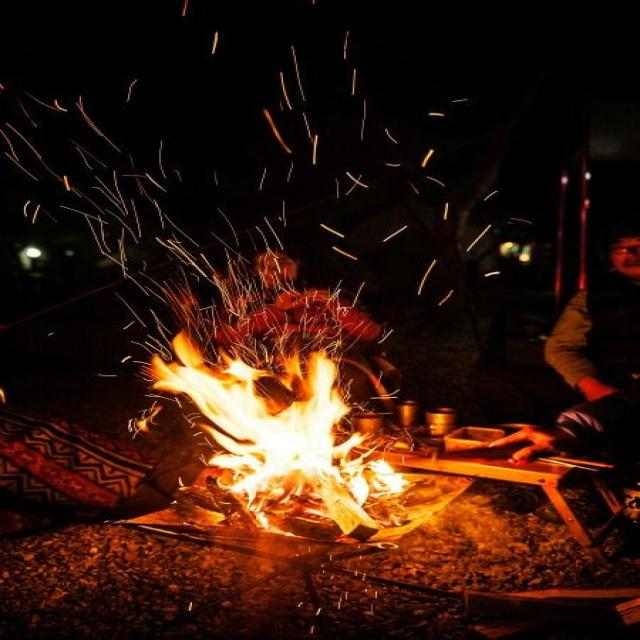fire: (145, 328, 411, 535)
